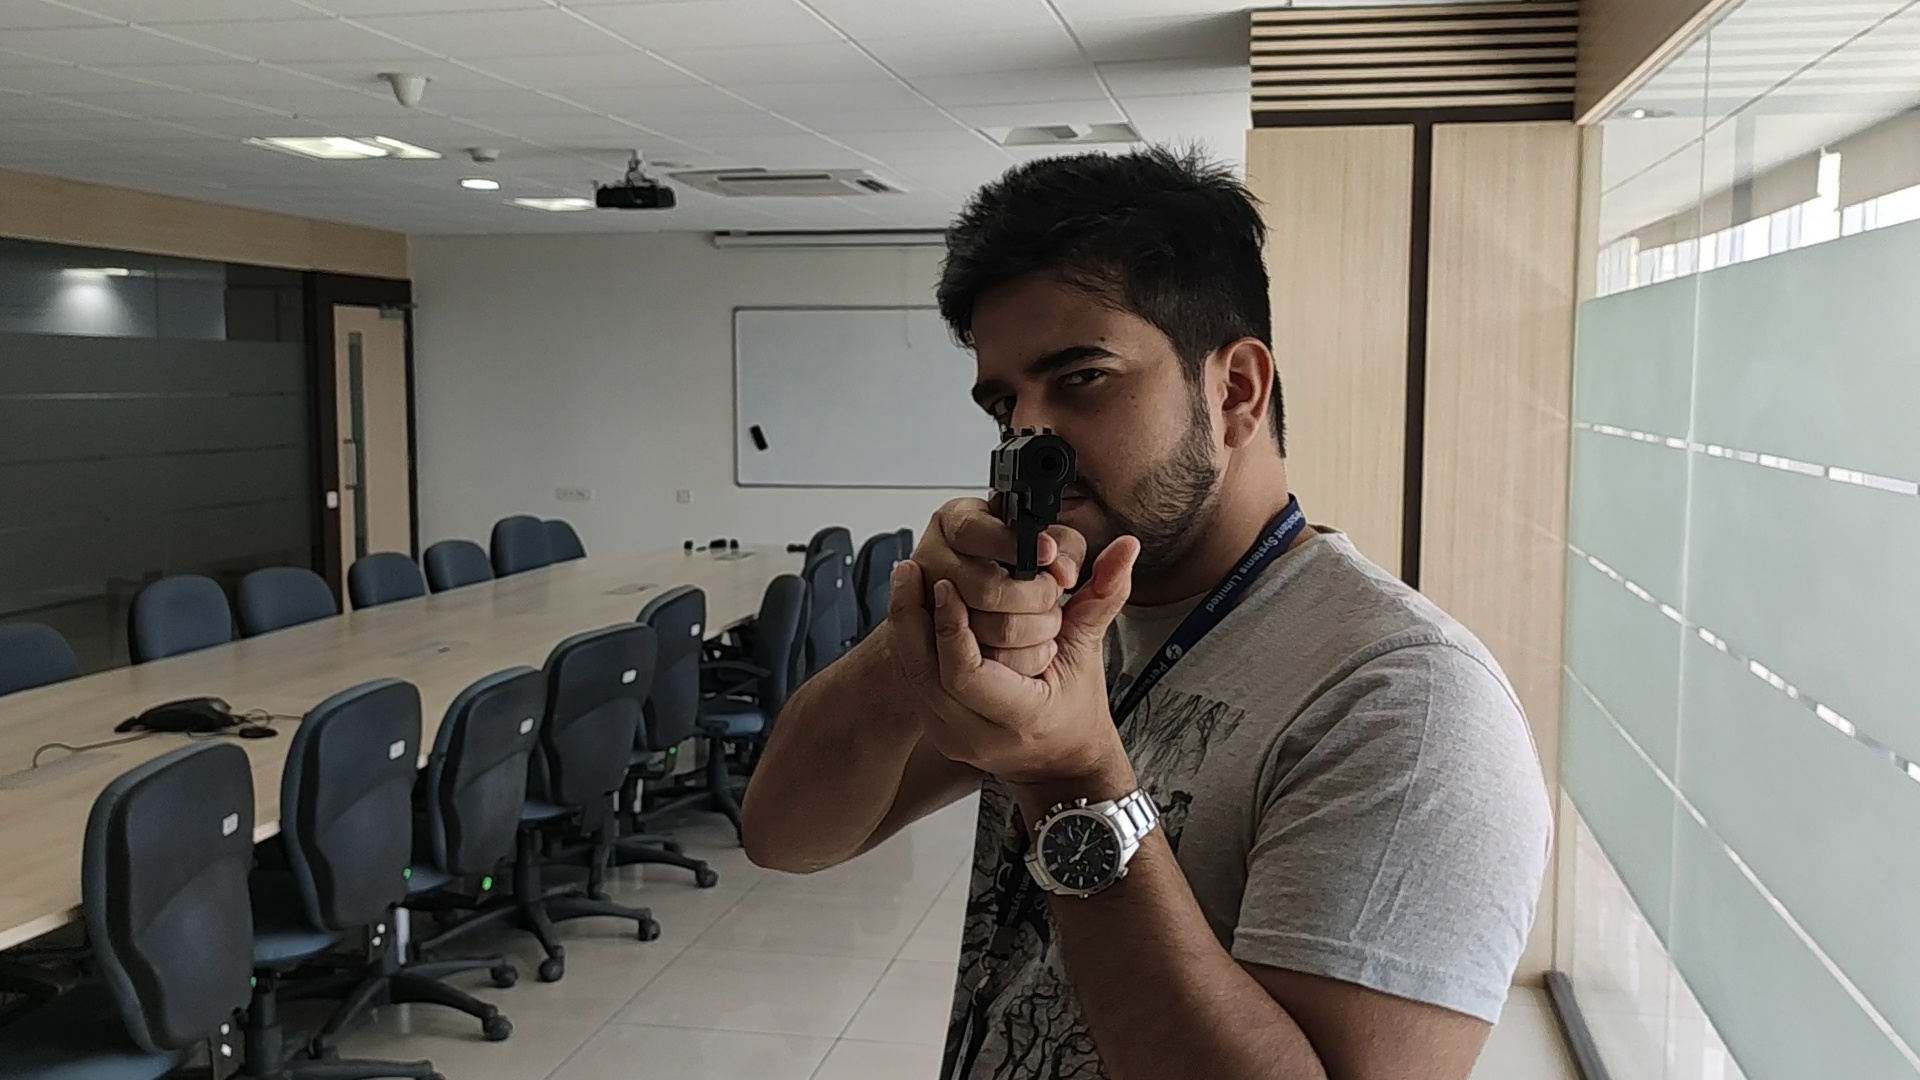gun: (982, 426, 1076, 542)
